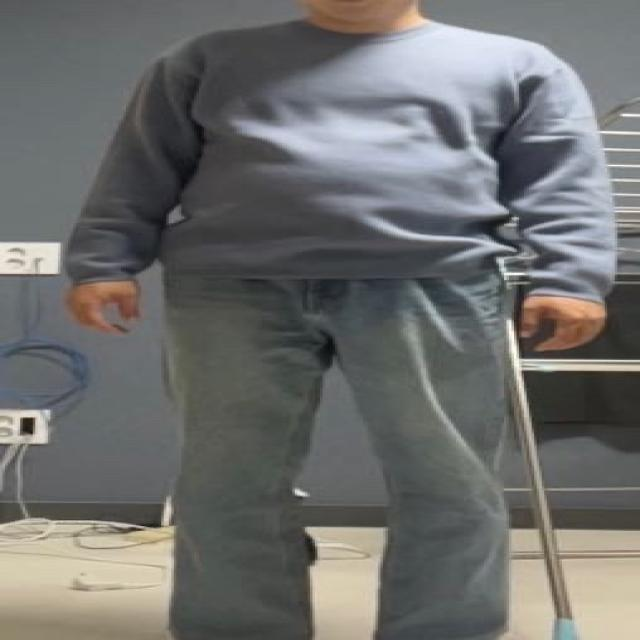denimpants: (161, 263, 509, 640)
mtm: (69, 17, 611, 285)
